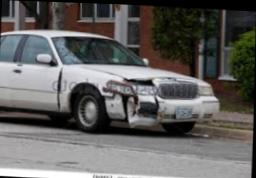Bumper: (125, 97, 175, 126)
Fender: (57, 66, 124, 113)
Light: (125, 82, 158, 95)
